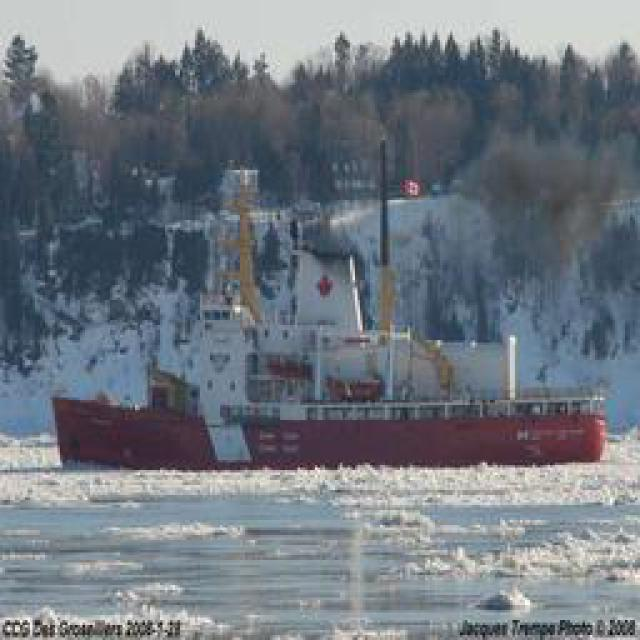Ship: (83, 392, 601, 470)
